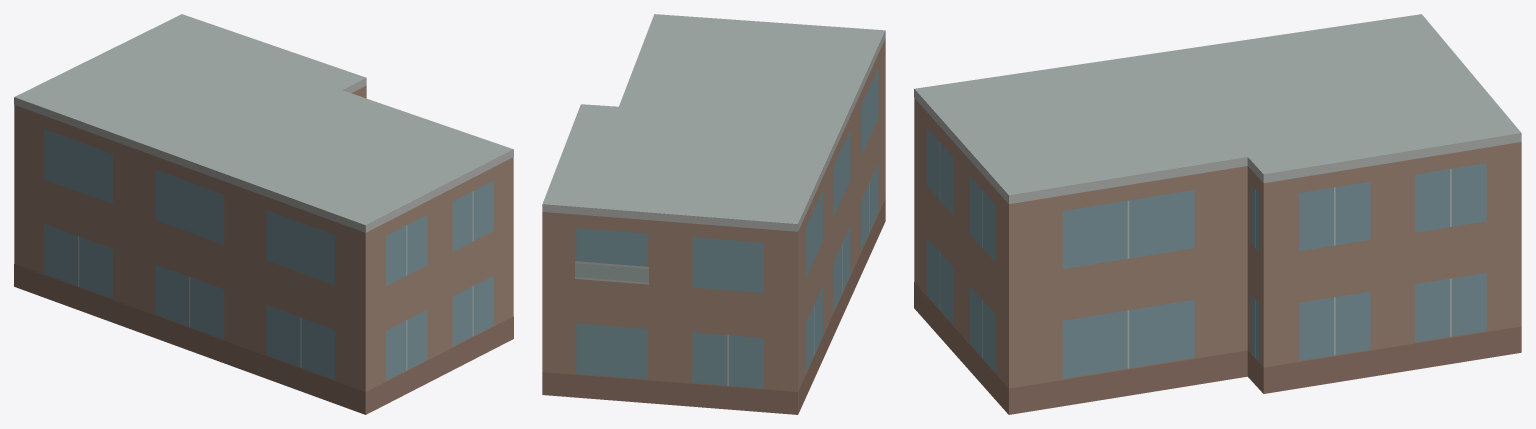
File: survey-upis-33029831.glb
3 views of the same model, side by side, from view 1: azimuth 30°, elevation 25°; view 2: azimuth 150°, elevation 25°; view 3: azimuth 270°, elevation 25° (orthographic). The views are drawn at different scales.
Parts seen in each view (by area): view 1: survey-upis-33029831.tmp; view 2: survey-upis-33029831.tmp; view 3: survey-upis-33029831.tmp.
Boxes of the visible parts, x1,y1,x2,y2 form: survey-upis-33029831.tmp: [14, 14, 513, 414]; survey-upis-33029831.tmp: [542, 14, 885, 414]; survey-upis-33029831.tmp: [914, 14, 1521, 414].
Bounding box in the file's own units: 10.83 × 6.1 × 15.32.
